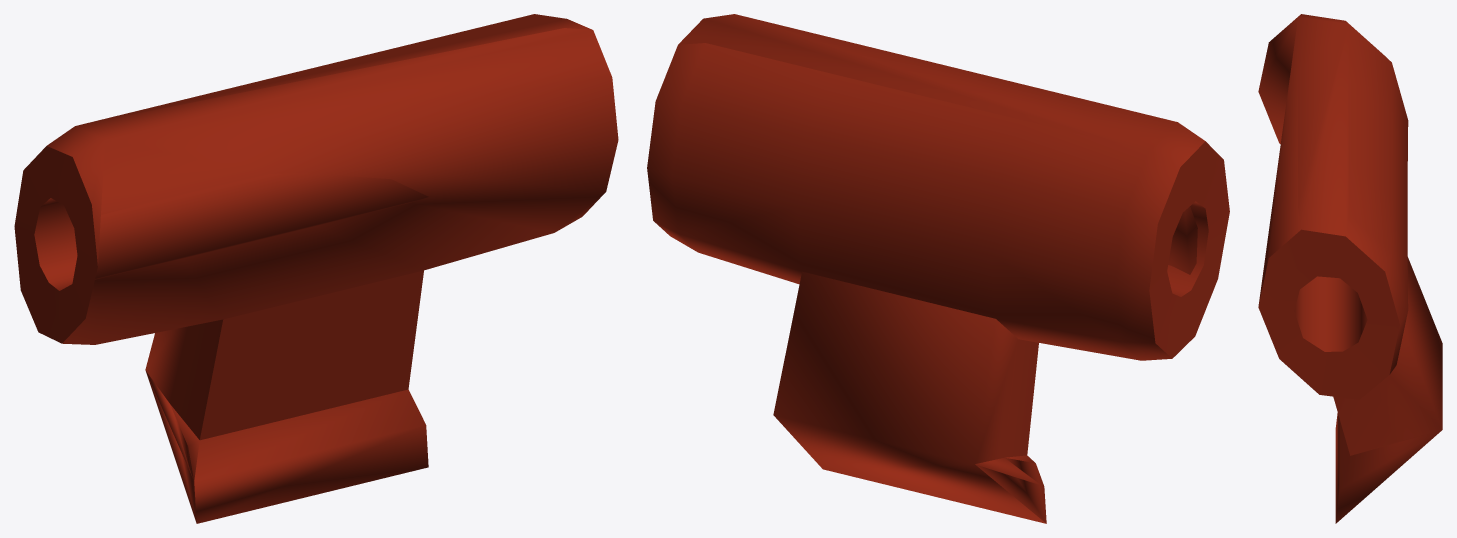
The model's file is Interupteur.fbx.
3 views of the same model, side by side, from view 1: azimuth 30°, elevation 25°; view 2: azimuth 150°, elevation 25°; view 3: azimuth 270°, elevation 25° (orthographic). The views are drawn at different scales.
Parts seen in each view (by area): view 1: power_box_01_box; view 2: power_box_01_box; view 3: power_box_01_box.
Part boxes in pixels (bbox=[...]): power_box_01_box: bbox=[14, 14, 618, 523]; power_box_01_box: bbox=[647, 14, 1229, 523]; power_box_01_box: bbox=[1258, 14, 1442, 523].
Bounding box in the file's own units: 13.82 × 10.85 × 4.99.
